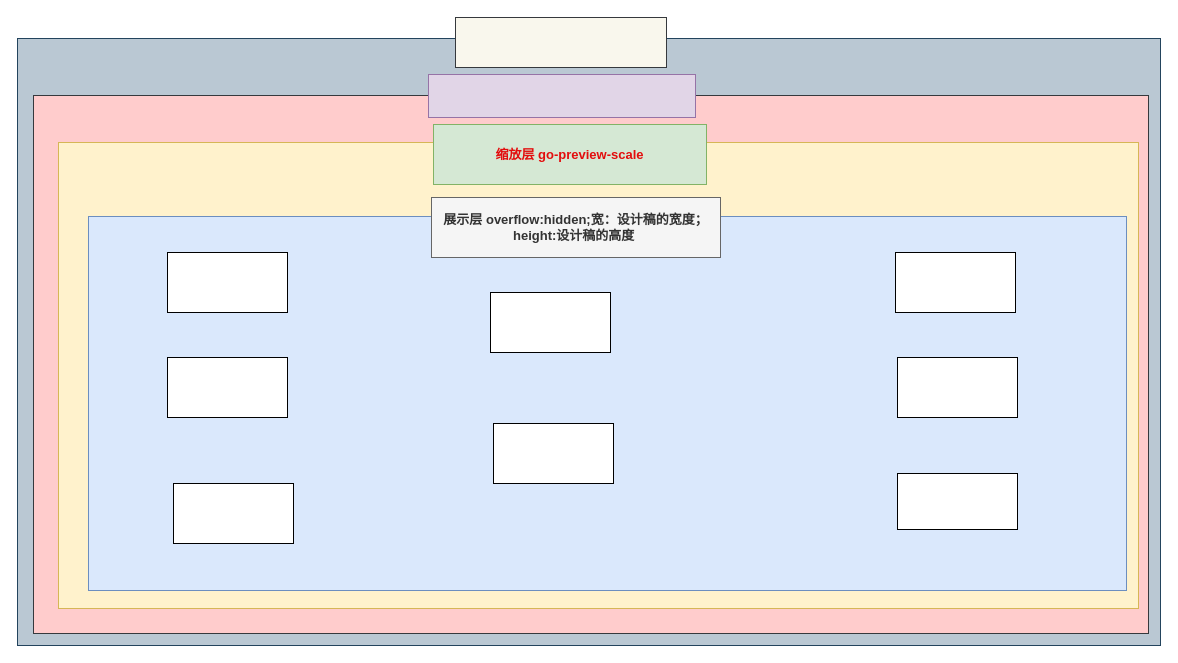
This 1178x663 diagram has some shape labels left out. Each missing label, with the centre of its shape:
"实体层 go-preview-entity" goes at point (562, 96).
"适配组件 go-preview scrollY" goes at point (560, 42).
